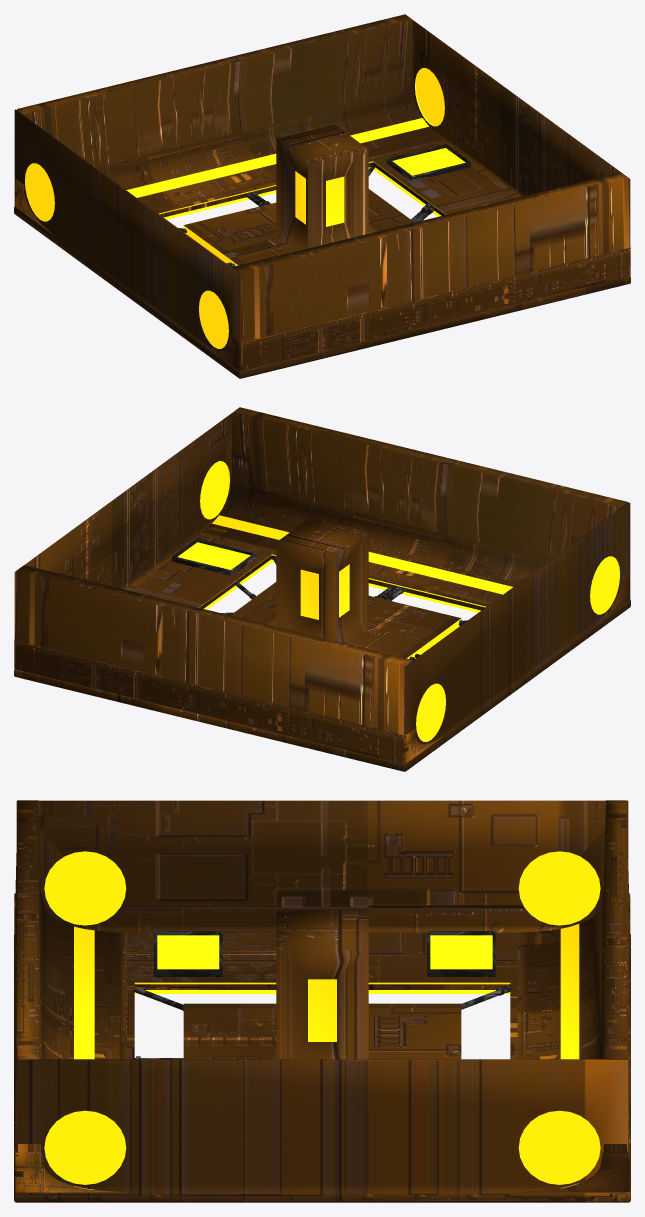
The model's file is floor.03.gltf.
3 views of the same model, one above another, from view 1: azimuth 30°, elevation 25°; view 2: azimuth 150°, elevation 25°; view 3: azimuth 270°, elevation 25° (orthographic). The views are drawn at different scales.
Parts seen in each view (by area): view 1: Floor 3 Base; view 2: Floor 3 Base; view 3: Floor 3 Base.
Part boxes in pixels (x1,y1,x2,y2): Floor 3 Base: (14, 14, 630, 378); Floor 3 Base: (14, 407, 630, 771); Floor 3 Base: (14, 800, 630, 1202).
Size of what is drawn, in the model's own units: 38.2 by 9.84 by 38.19.
3 materials, 2 textured.
